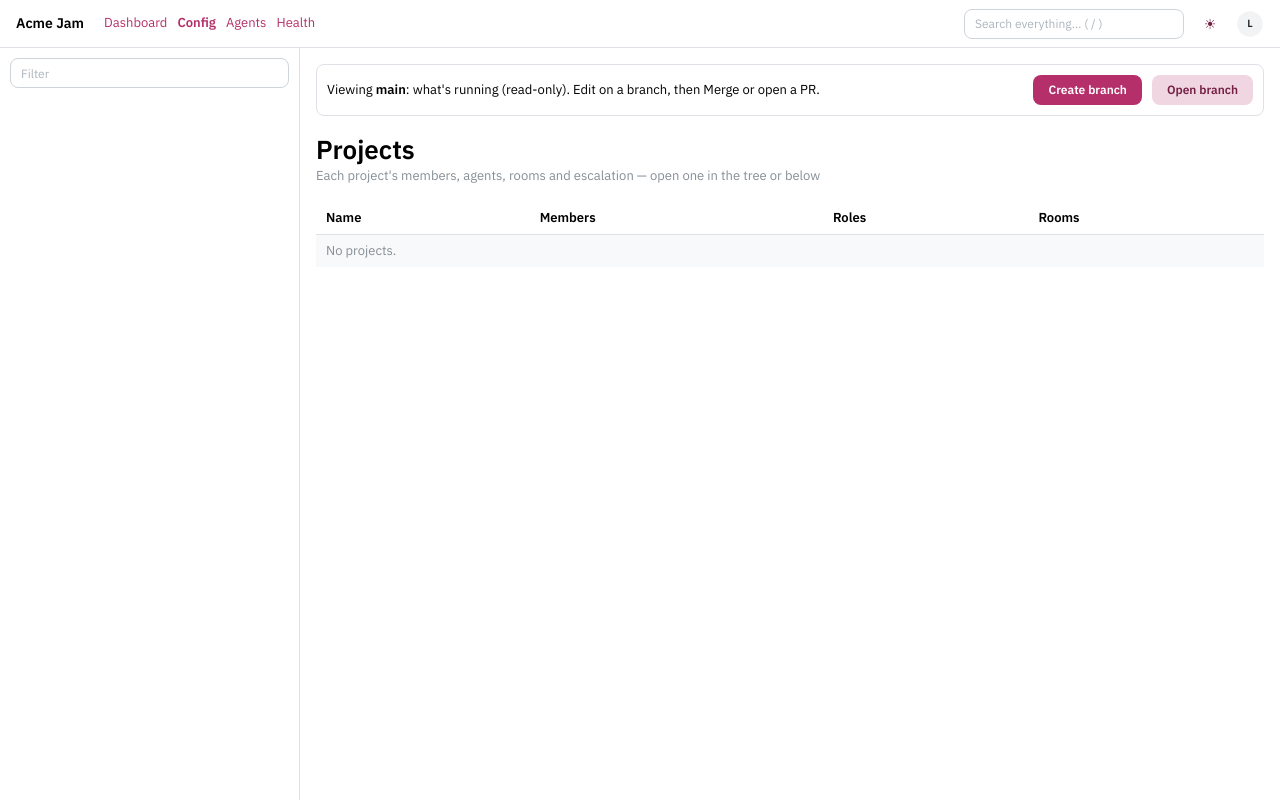
Test: the branch bar › Create branch opens it, and config requests then carry the header
Click the button "Create branch" at {"x": 1088, "y": 90}, box [1034, 75, 1142, 105]
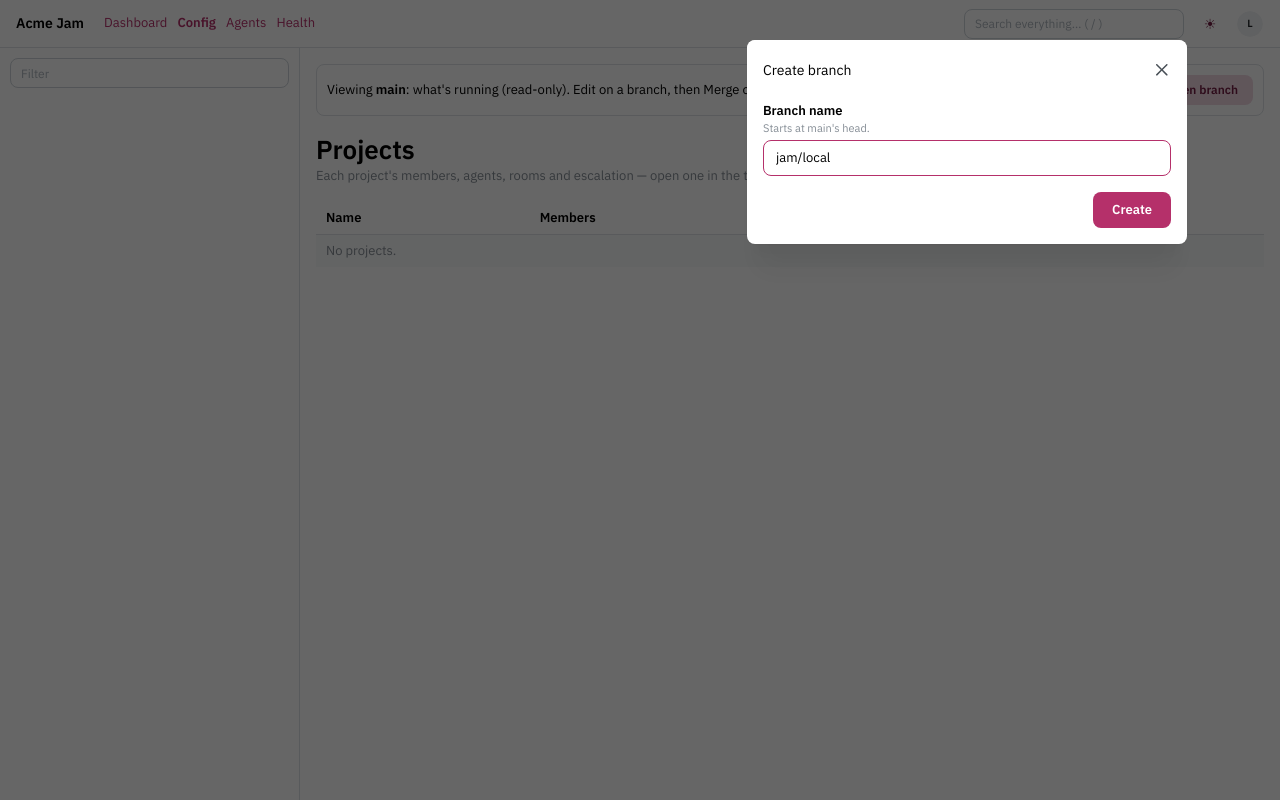
expect the field labelled "Branch name" holds "jam/local": met, box [763, 140, 1171, 176]
Click the button "Create" at {"x": 1132, "y": 210}, box [1093, 192, 1171, 228]
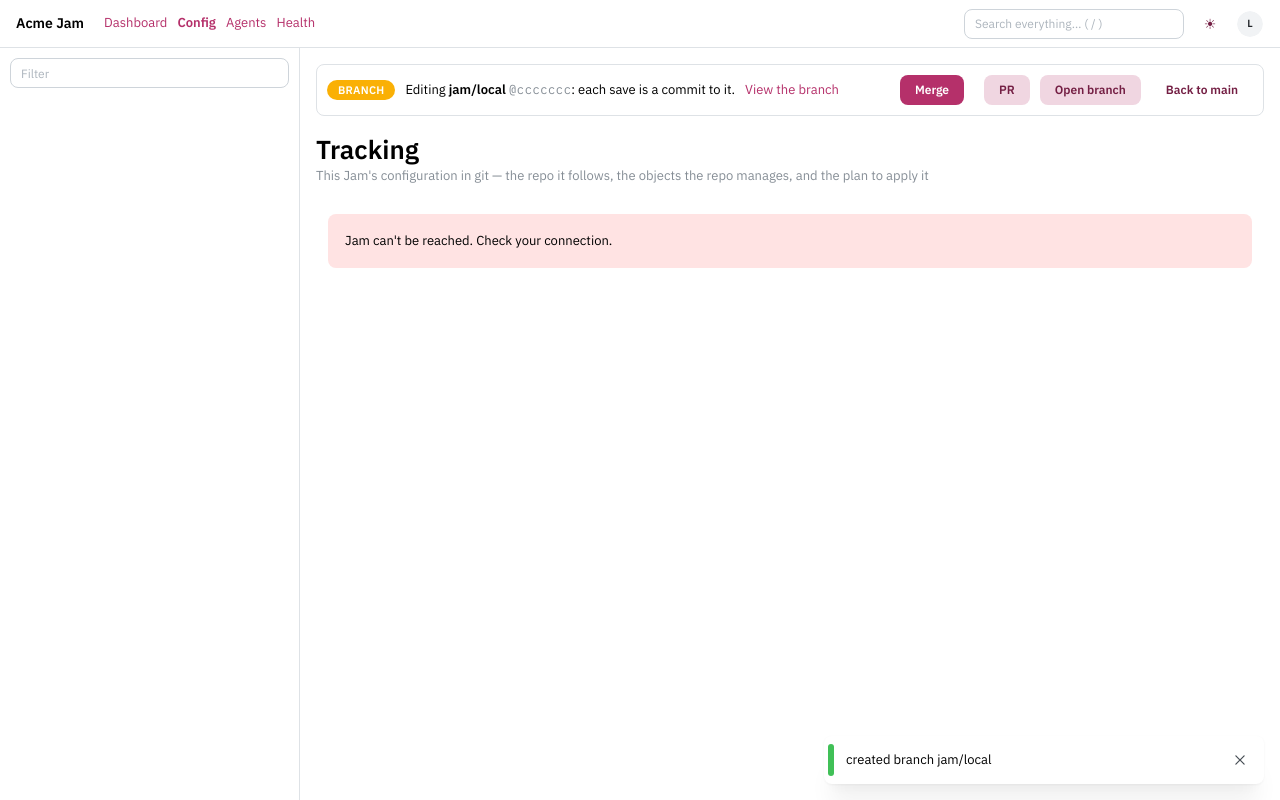
expect the text "Editing jam/local @ccccccc: each save is a commit to it." is shown: met, box [405, 81, 735, 99]
expect the text "jam/local" is shown: met, box [449, 81, 506, 98]
